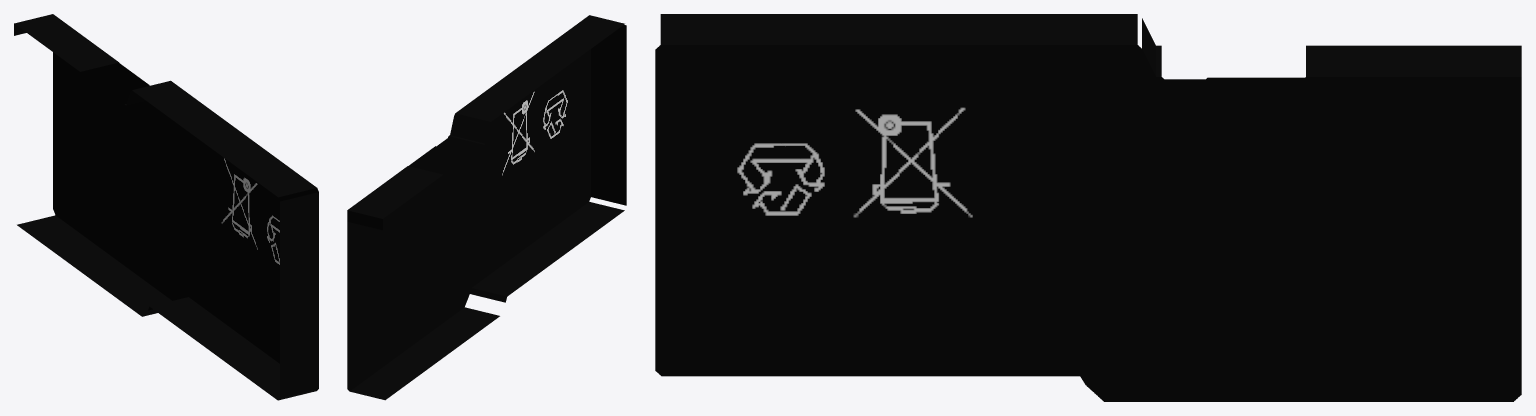
Rendered from Bateria pc.fbx.
3 renders of one model, left to right at view 1: azimuth 30°, elevation 25°; view 2: azimuth 150°, elevation 25°; view 3: azimuth 270°, elevation 25°, orthographic. The views are drawn at different scales.
Parts seen in each view (by area): view 1: Bateria; view 2: Bateria; view 3: Bateria.
Boxes of the visible parts, <box> form: Bateria: <box>14,14,318,400</box>; Bateria: <box>347,15,626,400</box>; Bateria: <box>655,14,1521,401</box>.
Size of the model in its own units: 18.94 by 101 by 223.
